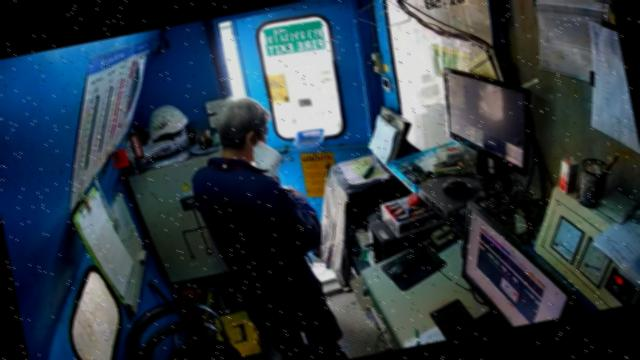Head: (214, 98, 272, 162)
People: (190, 98, 343, 359)
